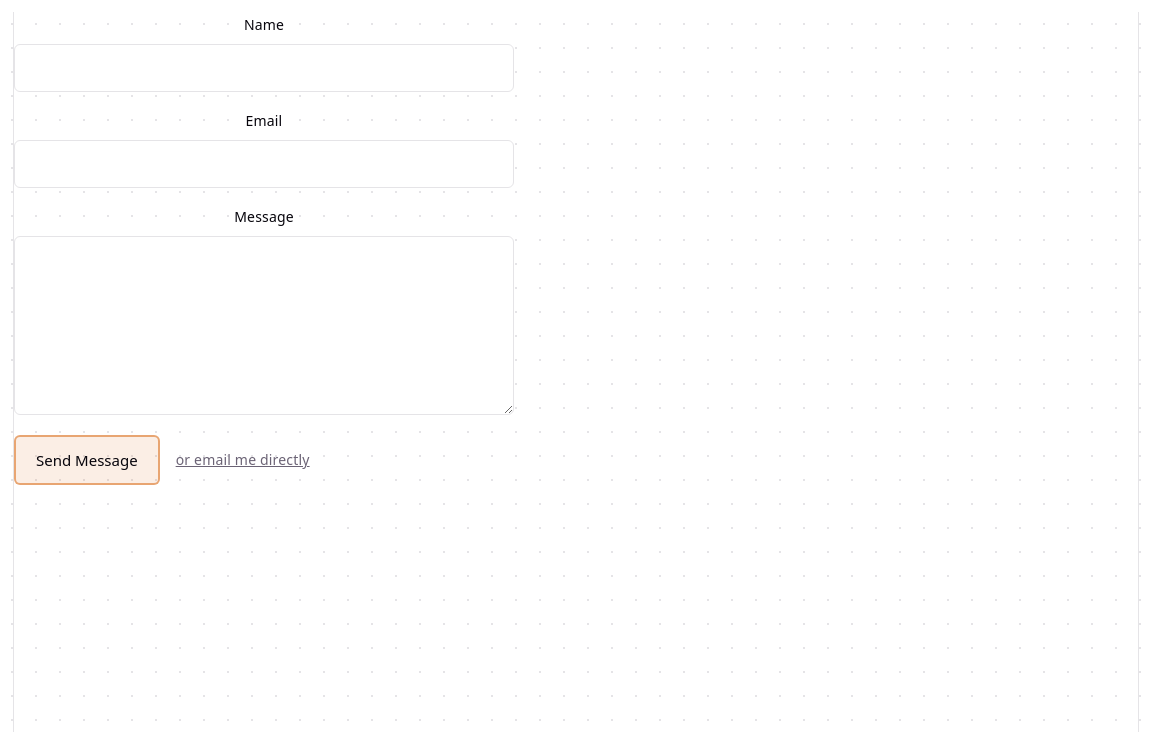
ContactTab › shows server-provided validation errors on 400
In the field labelled "Name": (264, 68) [14, 44, 514, 92], type "Ada Lovelace"
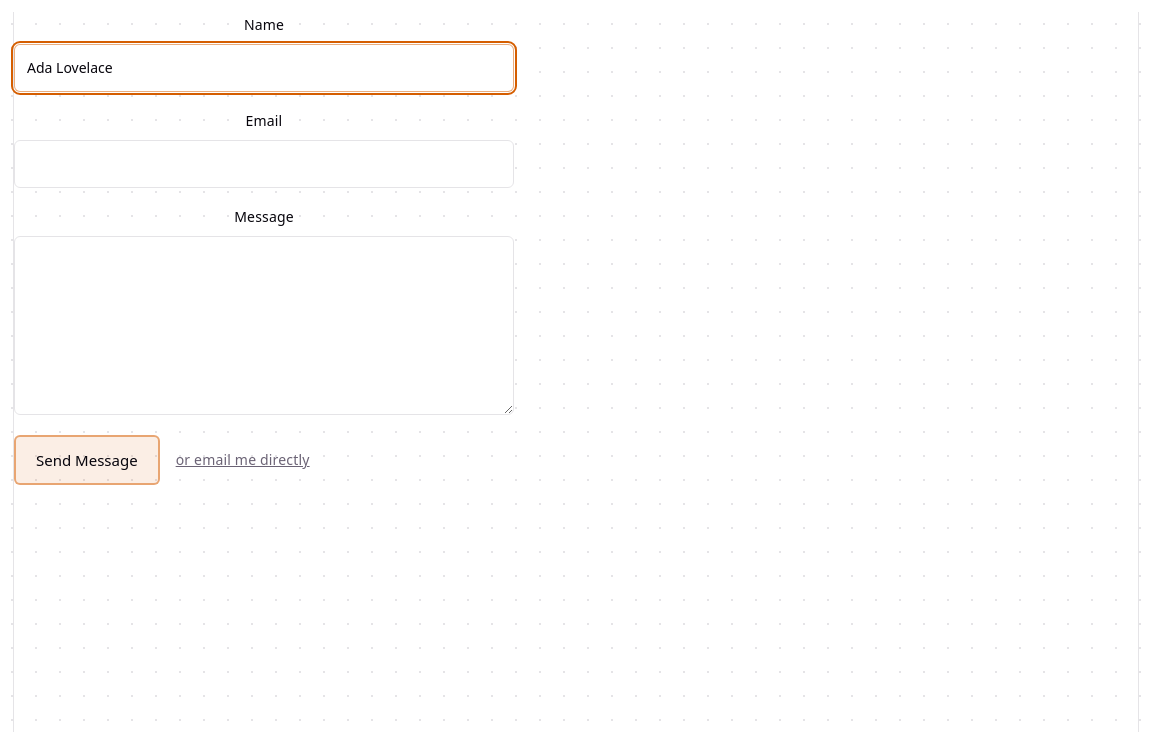
In the field labelled "Email": (264, 164) [14, 140, 514, 188], type "ada@example.com"
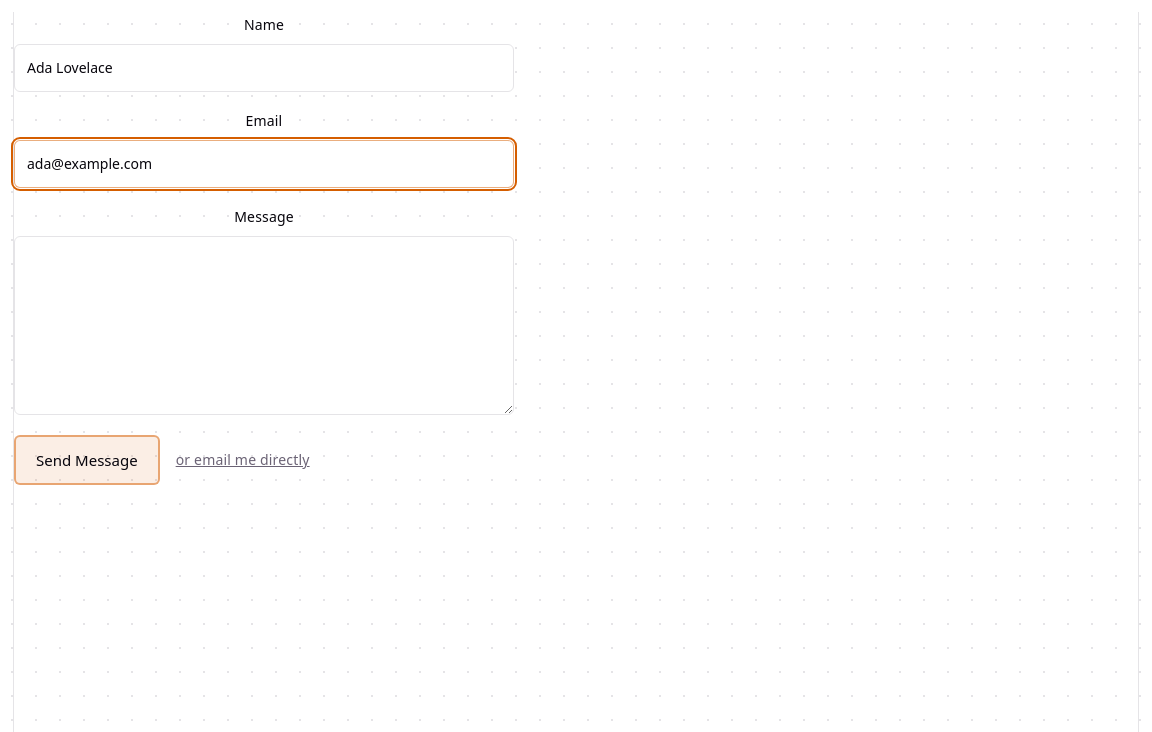
In the text box labelled "Message": (264, 326) [14, 236, 514, 415], type "Hello there"
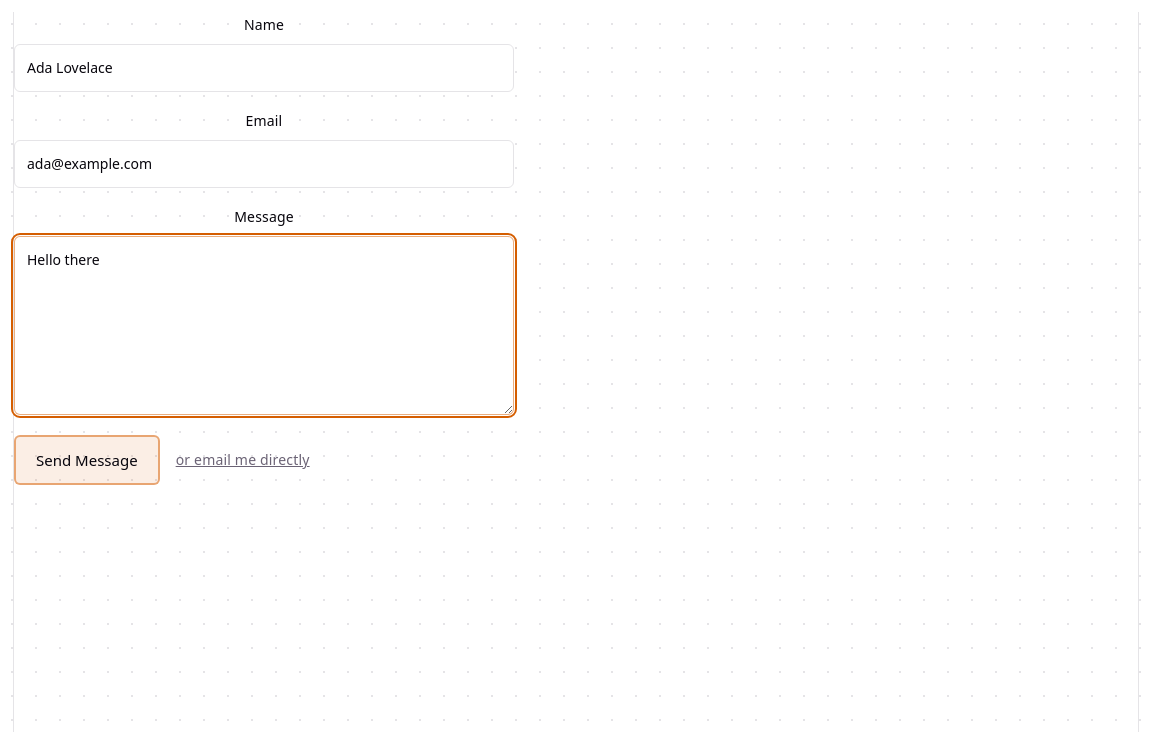
Click the button "Send Message": (87, 460) [14, 435, 160, 485]
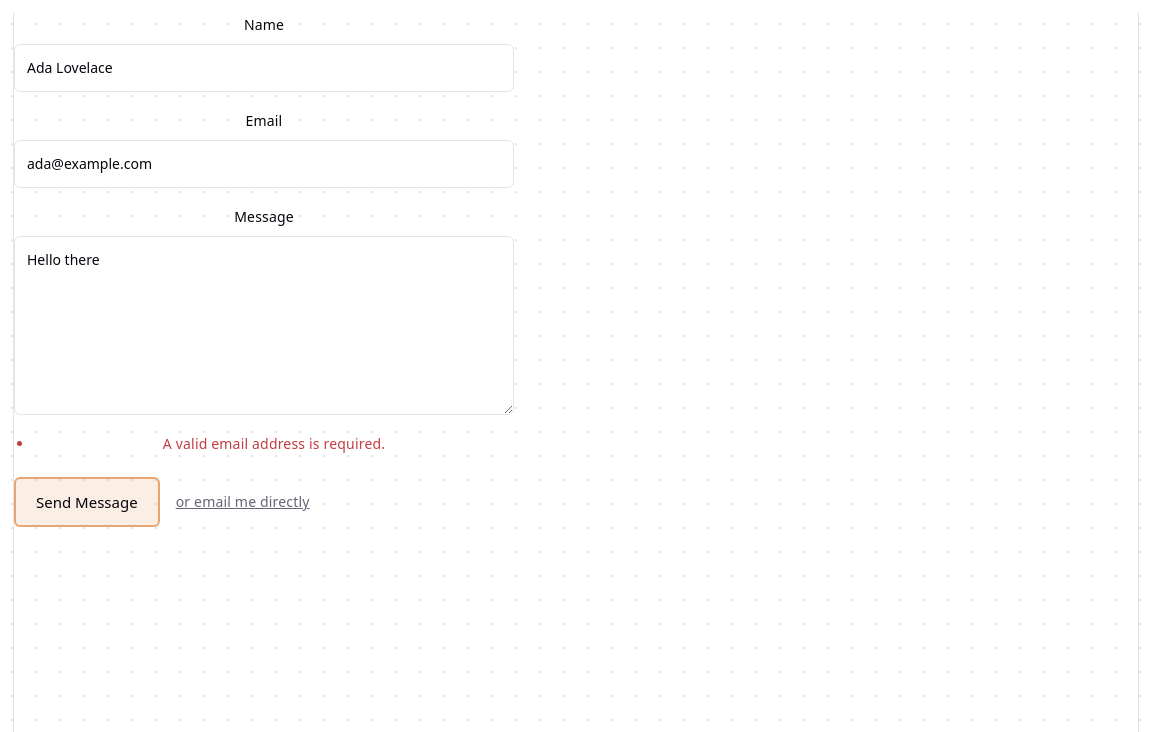
Now the list item "A valid email address is required." is shown, box [163, 434, 385, 453]
